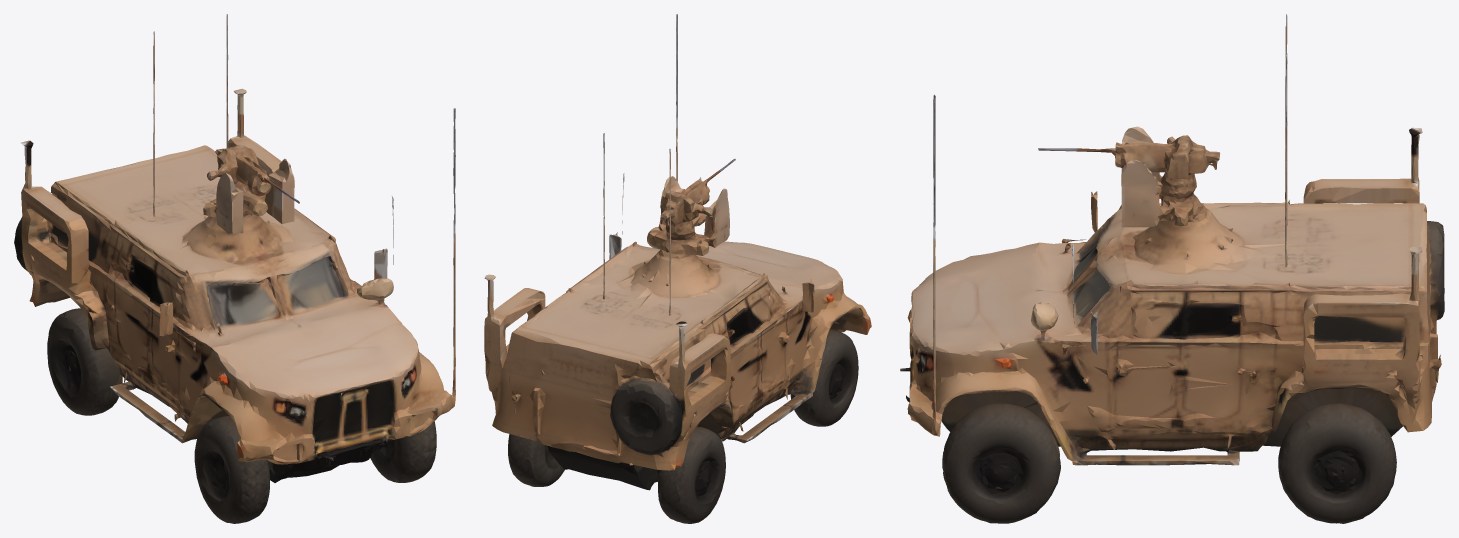
File: Oshkosh_JLTV.glb
3 renders of one model, left to right at view 1: azimuth 30°, elevation 25°; view 2: azimuth 150°, elevation 25°; view 3: azimuth 270°, elevation 25°, orthographic. The views are drawn at different scales.
Visible parts, largest first — view 1: model; view 2: model; view 3: model.
Part boxes in pixels (box(x1,y1,x2,y2)): model: box(14, 14, 455, 523); model: box(484, 14, 871, 523); model: box(900, 14, 1444, 523).
Bounding box in the file's own units: 1.04 × 1.69 × 1.89.
Materials: 1 (1 with a texture image).
